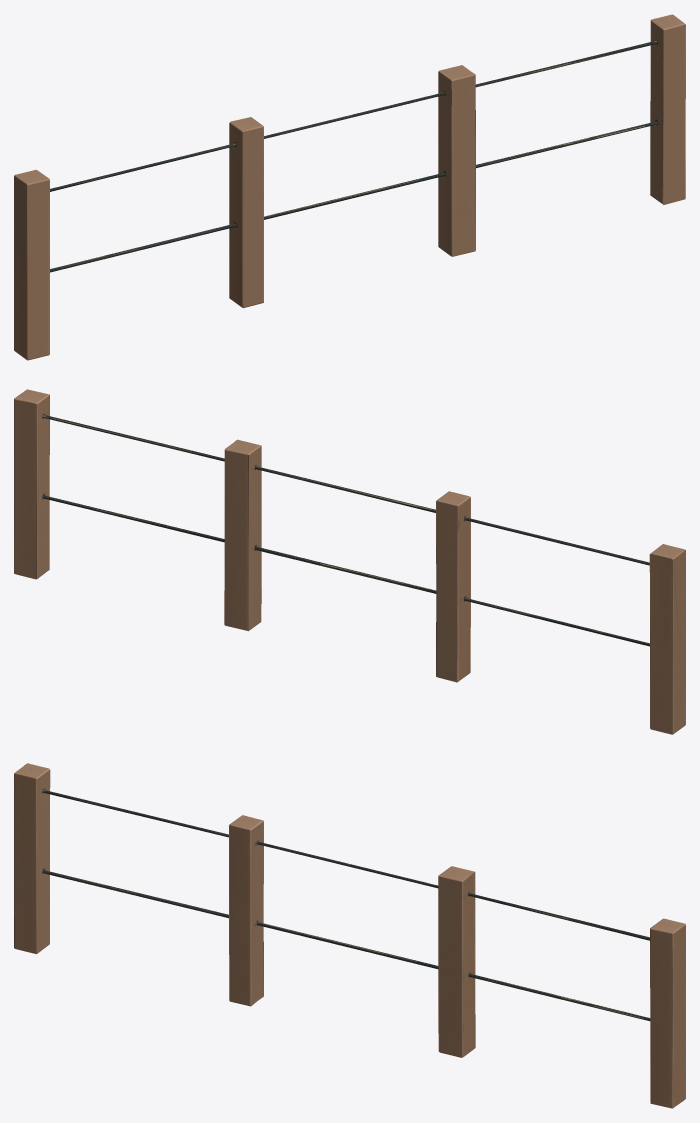
The model's file is fence.glb.
3 renders of one model, top to bottom at view 1: azimuth 30°, elevation 25°; view 2: azimuth 150°, elevation 25°; view 3: azimuth 330°, elevation 25°, orthographic.
Size of the model in its own units: 0.9575 by 0.2461 by 0.0352.
Materials: 1 (1 with a texture image).
